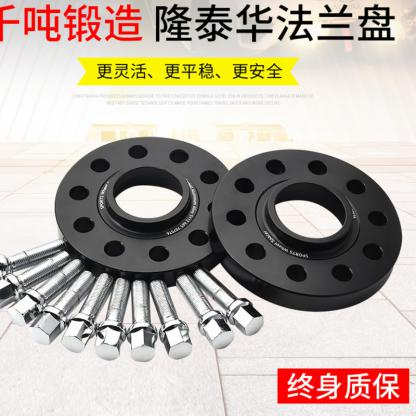FOD: (208, 144, 405, 314), (52, 132, 243, 282)
